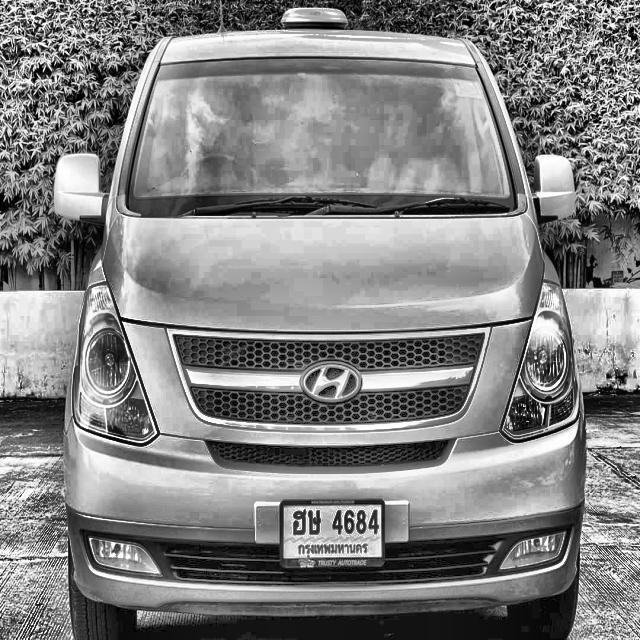license-plate: (278, 495, 387, 573)
